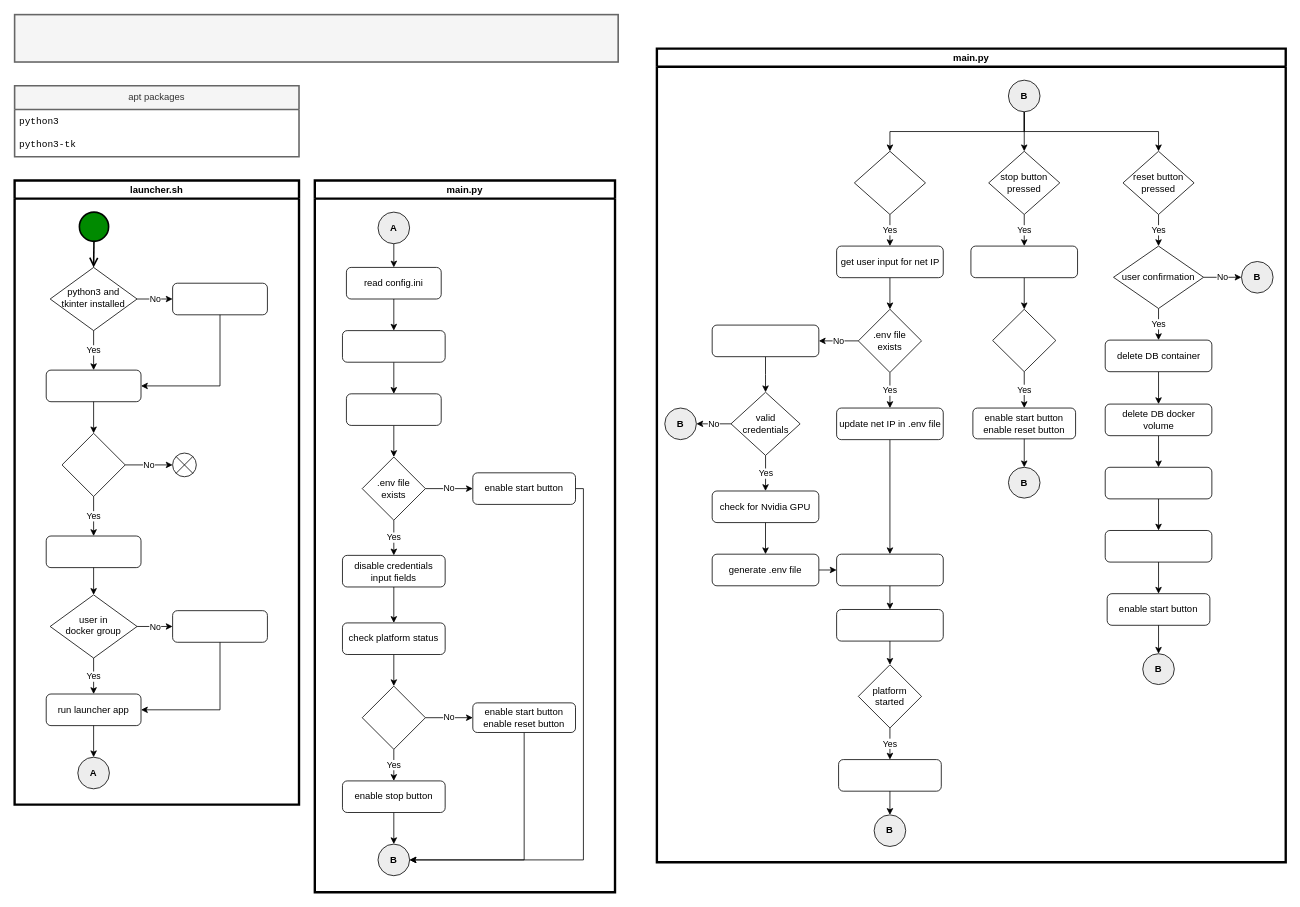
Image size: 1300x907. Some labels were removed from this diagram. The shapes that lost their labels are listed below. From the top down, each one's centre as x and y in pixels, then its label:
(316,37): Launcher
(889,182): start button pressed
(1024,261): stop docker containers
(219,298): install python3 and python3-tk
(393,346): build GUI window and user input fields
(765,340): get user input for credentials
(1024,340): platform stopped
(93,385): check docker installation
(393,409): check .env file
(93,465): docker installed
(1158,482): empy web's media dir
(93,551): check docker group
(1158,546): delete .env file
(889,569): get selected components to run
(219,626): add user to docker group
(889,625): start selected docker containers
(393,717): platform is running
(889,775): enable stop button & launch browser
